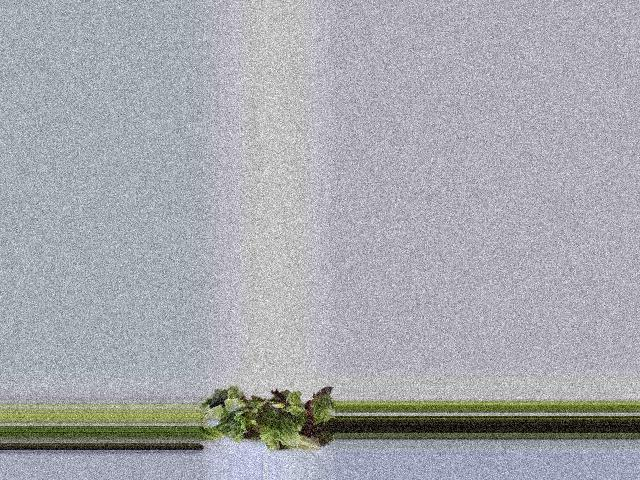lettuce: (207, 391, 330, 441)
